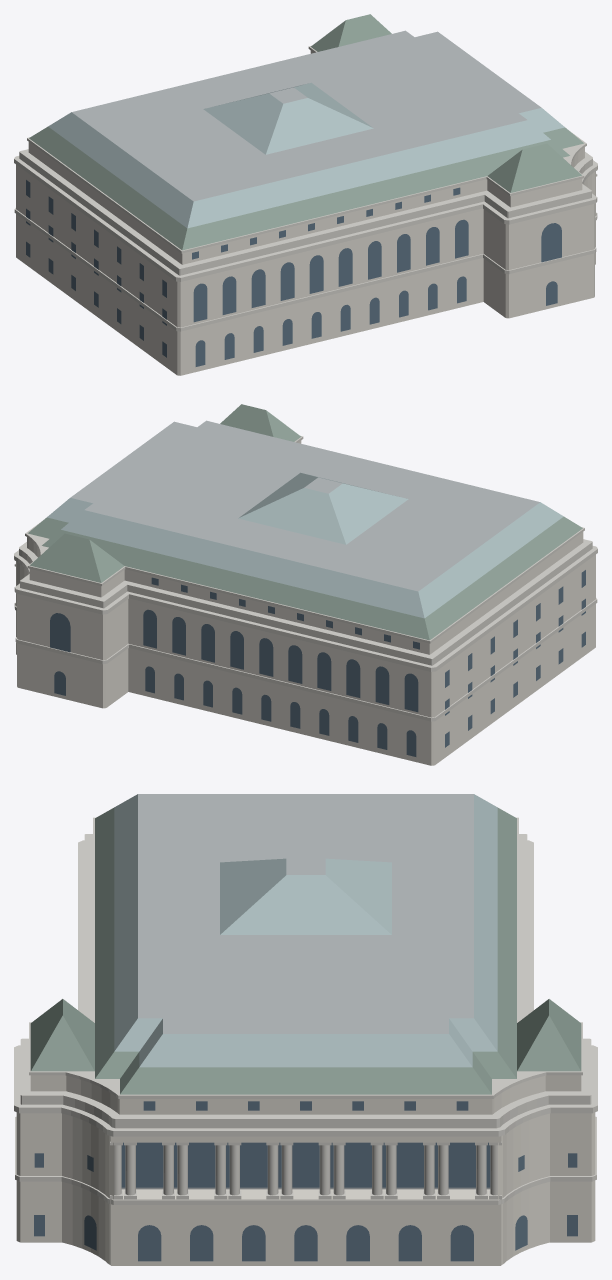
The model's file is sf-veterans-building.glb.
3 views of the same model, one above another, from view 1: azimuth 30°, elevation 25°; view 2: azimuth 150°, elevation 25°; view 3: azimuth 270°, elevation 25° (orthographic). The views are drawn at different scales.
Visible parts, largest first — view 1: War Memorial Veterans Building; view 2: War Memorial Veterans Building; view 3: War Memorial Veterans Building.
Part boxes in pixels (box(x1,y1,x2,y2)): War Memorial Veterans Building: box(14, 14, 597, 375); War Memorial Veterans Building: box(14, 404, 597, 765); War Memorial Veterans Building: box(14, 794, 597, 1265).
Size of the model in its own units: 88 by 33.8 by 74.7.
